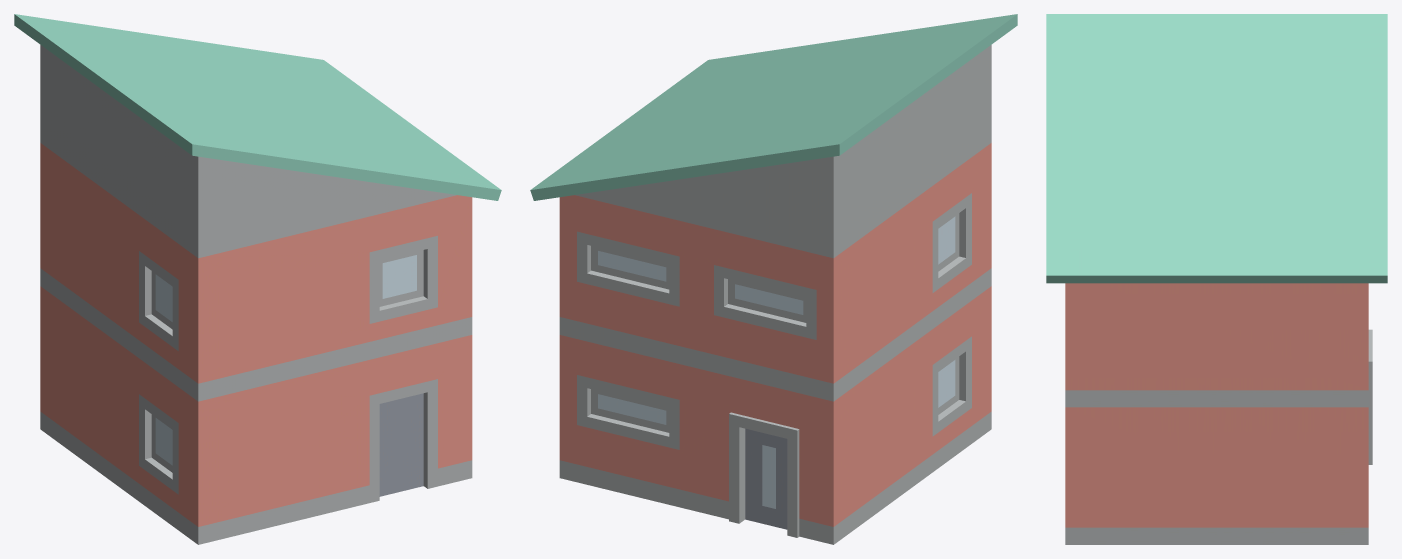
Rendered from house-tall.glb.
The picture shows the model from 3 angles, left to right: view 1: azimuth 30°, elevation 25°; view 2: azimuth 150°, elevation 25°; view 3: azimuth 270°, elevation 25°; orthographic projection. The views are drawn at different scales.
Visible parts, largest first — view 1: house_type15; view 2: house_type15; view 3: house_type15.
Boxes of the visible parts, x1,y1,x2,y2 form: house_type15: (14,14,501,544); house_type15: (530,14,1017,544); house_type15: (1046,14,1387,544).
Bounding box in the file's own units: 0.9042 × 1.15 × 0.9.
1 material, 1 textured.
